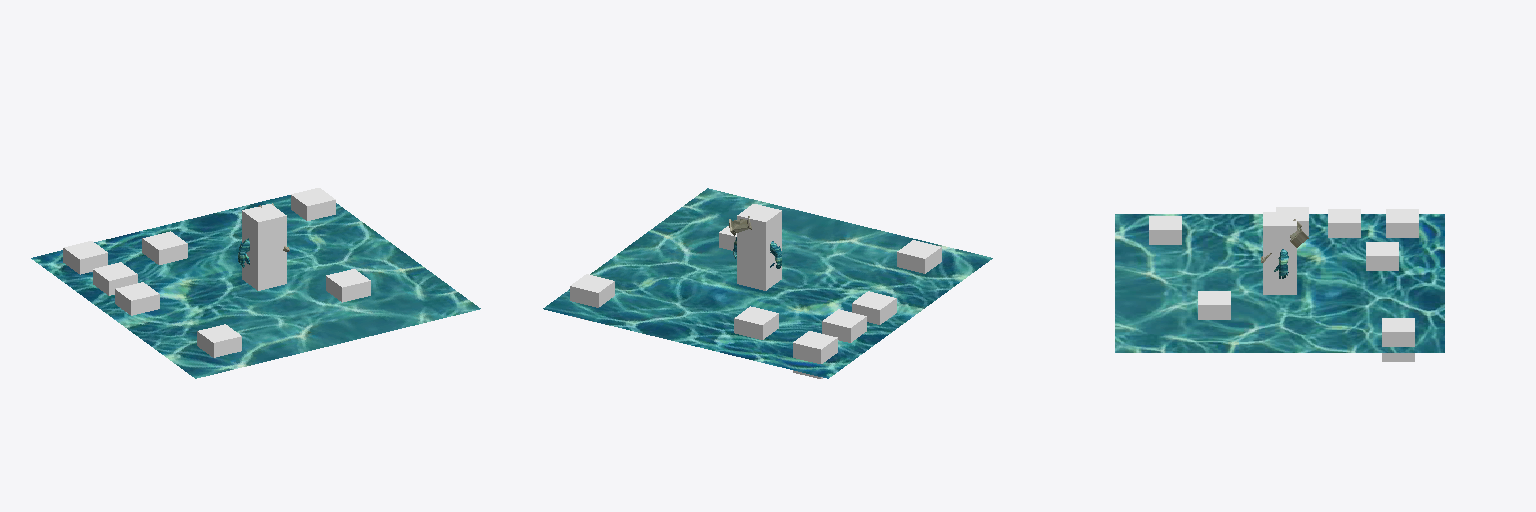
The picture shows the model from 3 angles: view 1: azimuth 30°, elevation 25°; view 2: azimuth 150°, elevation 25°; view 3: azimuth 270°, elevation 25°; orthographic projection.
Parts seen in each view (by area): view 1: Plane, Collider, wA3, wB0, wD0, wC0, wA2, wA0, wA1; view 2: Plane, Collider, wA0, wD0, wC0, wA3, wA1, wA2; view 3: Plane, Collider, wD0, wA3, wA1, wC0, wB0, wA0.
Part boxes in pixels (x1,y1,x2,y2): Plane: (31,195,480,378); Collider: (242,204,286,290); wA3: (142,231,187,264); wB0: (326,269,370,302); wD0: (291,188,335,220); wC0: (197,324,241,357); wA2: (115,282,159,315); wA0: (63,241,107,274); wA1: (93,262,137,295); Plane: (543,188,992,378); Collider: (737,204,781,290); wA0: (793,331,837,378); wD0: (570,274,614,321); wC0: (897,240,941,273); wA3: (734,306,778,339); wA1: (822,309,866,342); wA2: (852,291,896,324); Plane: (1115,214,1444,352); Collider: (1263,212,1296,294); wD0: (1382,318,1414,361); wA3: (1366,242,1398,270); wA1: (1328,209,1360,237); wC0: (1149,216,1181,244); wB0: (1198,291,1230,319); wA0: (1386,209,1418,237).
Size of the model in its own units: 10 by 2.84 by 10.
4 materials, 2 textured.